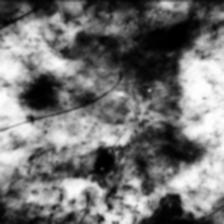Potentially Malignant Skin Tumors: (76, 19, 196, 179)
